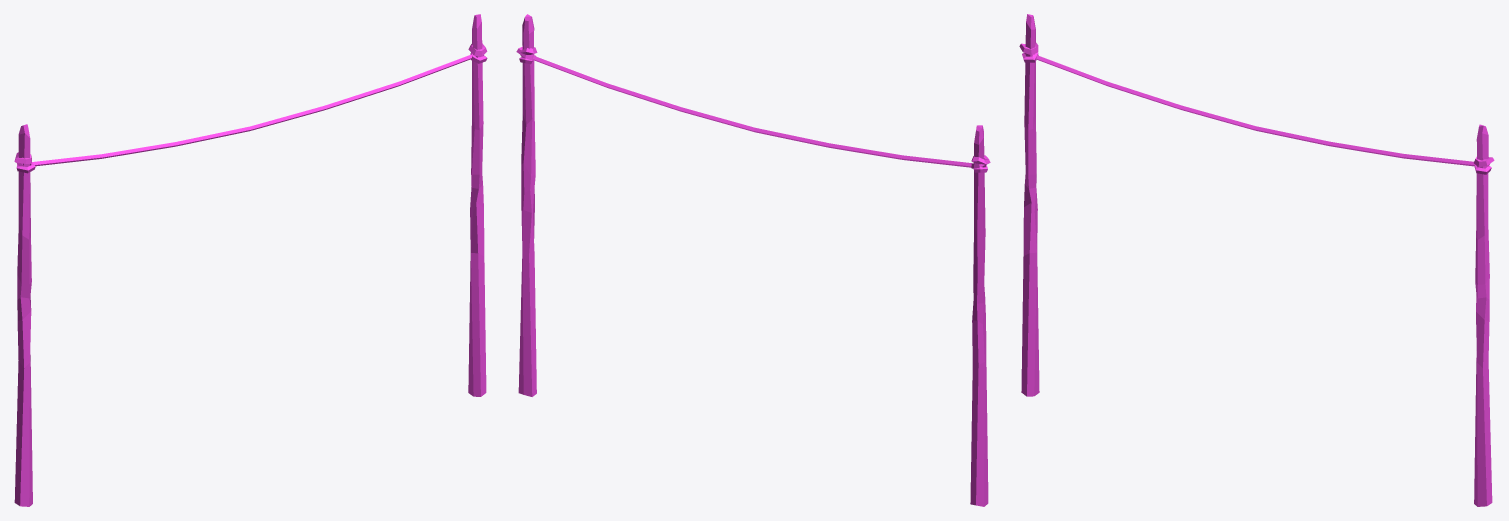
Rendered from SM_Clothesline_Poles_3m_Empty_Fantasy.fbx.
The picture shows the model from 3 angles, left to right: view 1: azimuth 30°, elevation 25°; view 2: azimuth 150°, elevation 25°; view 3: azimuth 330°, elevation 25°; orthographic projection.
Visible parts, largest first — view 1: SM_Clothesline_Poles_3m_Empty_Fantasy; view 2: SM_Clothesline_Poles_3m_Empty_Fantasy; view 3: SM_Clothesline_Poles_3m_Empty_Fantasy.
Part boxes in pixels (<box>): SM_Clothesline_Poles_3m_Empty_Fantasy: <box>14,14,487,506</box>; SM_Clothesline_Poles_3m_Empty_Fantasy: <box>516,14,990,506</box>; SM_Clothesline_Poles_3m_Empty_Fantasy: <box>1019,14,1494,506</box>.
Size of the model in its own units: 3.18 by 2.45 by 0.1128.
